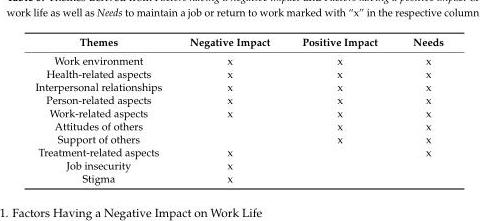table: (34, 35, 443, 184)
table column: (34, 35, 175, 184), (175, 35, 285, 184), (285, 35, 394, 184), (394, 35, 443, 184)
table column header: (34, 35, 443, 51)
table row: (34, 35, 443, 51), (34, 51, 443, 66), (34, 79, 443, 93), (34, 66, 443, 79), (34, 93, 443, 106), (34, 106, 443, 119), (34, 119, 443, 132), (34, 132, 443, 145), (34, 145, 443, 158), (34, 158, 443, 171), (34, 171, 443, 184)
